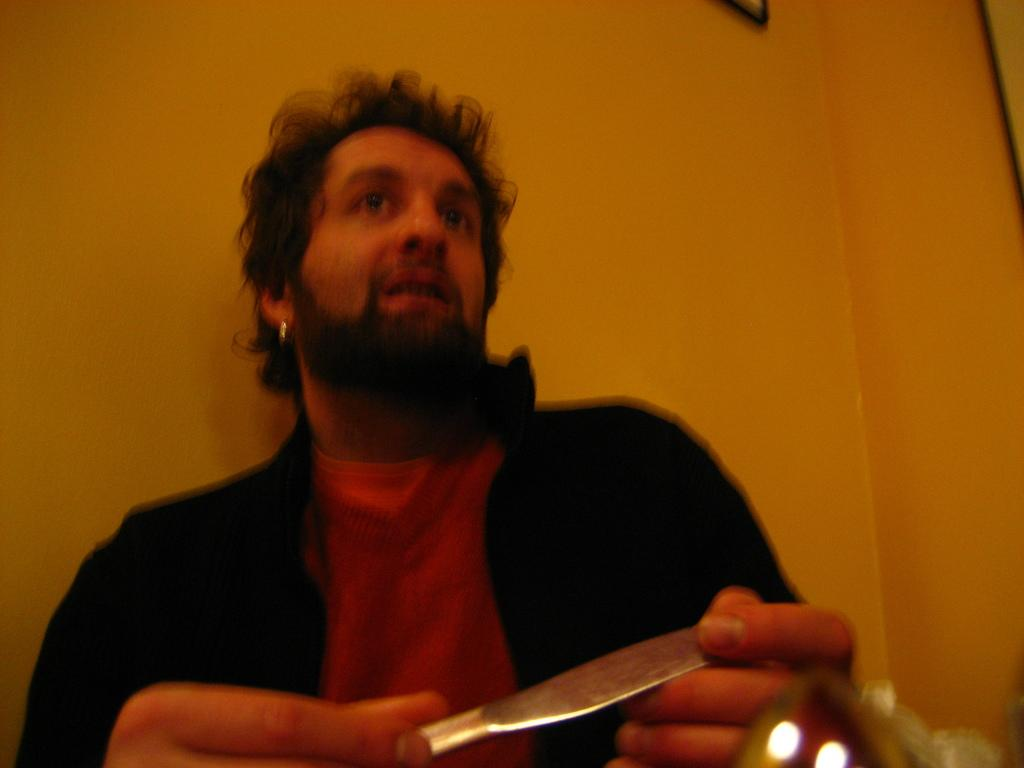knife: (422, 625, 718, 762)
non-violence: (18, 64, 857, 755)
